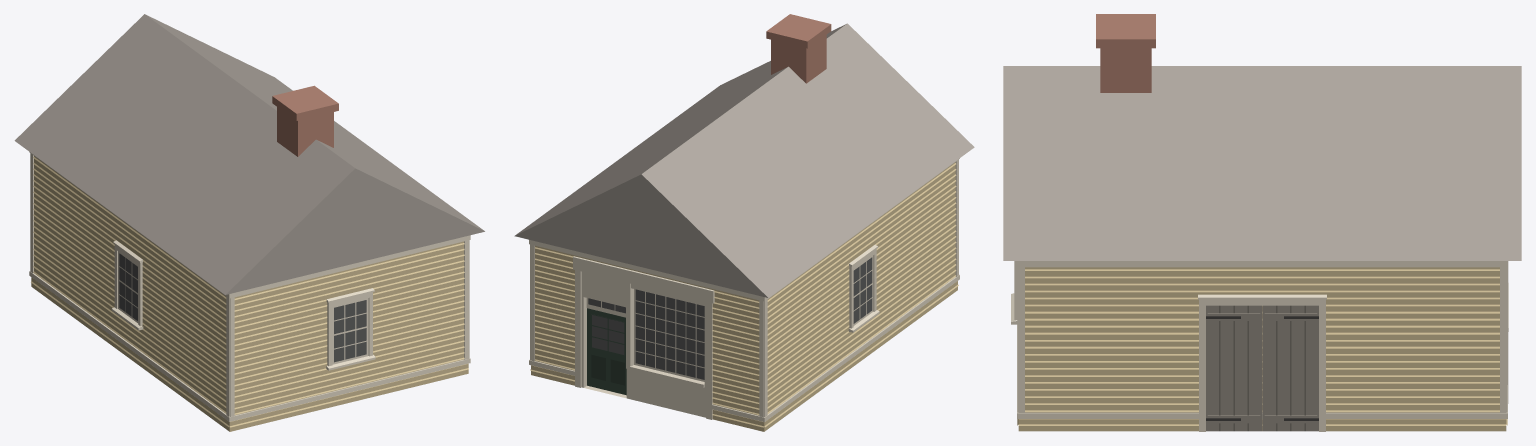
The model's file is recon_1835_core_c1_055__inferred_1835.glb.
The picture shows the model from 3 angles, left to right: view 1: azimuth 30°, elevation 25°; view 2: azimuth 150°, elevation 25°; view 3: azimuth 270°, elevation 25°; orthographic projection. The views are drawn at different scales.
Visible parts, largest first — view 1: recon_1835_core_c1_055__inferred_1835; view 2: recon_1835_core_c1_055__inferred_1835; view 3: recon_1835_core_c1_055__inferred_1835.
Part boxes in pixels (x1,y1,x2,y2): recon_1835_core_c1_055__inferred_1835: [14, 14, 484, 431]; recon_1835_core_c1_055__inferred_1835: [514, 14, 974, 431]; recon_1835_core_c1_055__inferred_1835: [1003, 14, 1521, 431].
Size of the model in its own units: 6.03 by 6.01 by 8.47.
